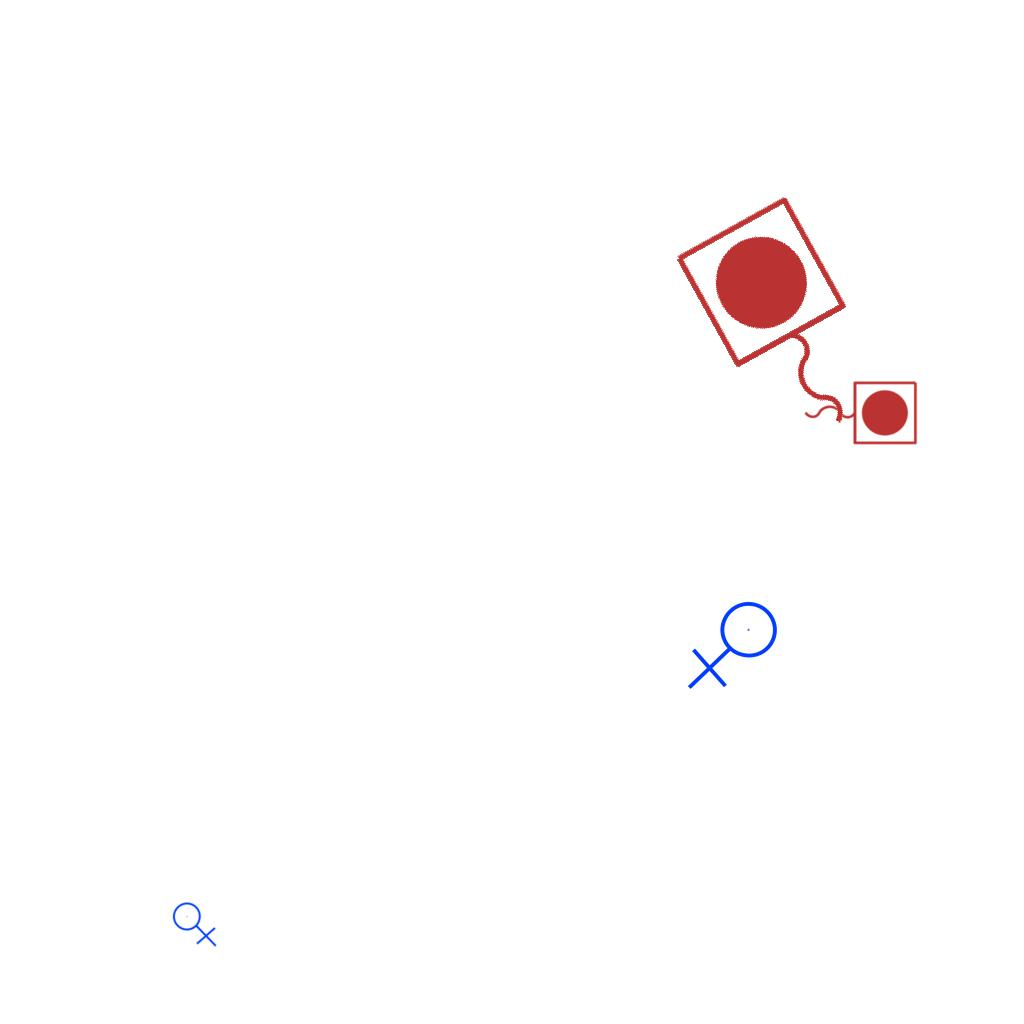Elektroanschluss_allgemein_230V_Geraeteanschlussdose_230V: (687, 600, 786, 694), (172, 898, 219, 947)
Zugtaster: (661, 185, 907, 469), (799, 376, 921, 448)
